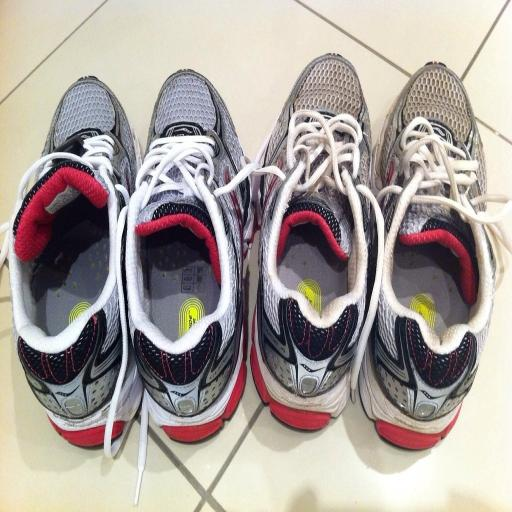shoe: (360, 63, 502, 449), (6, 77, 142, 455), (250, 54, 380, 430), (126, 70, 254, 442)
